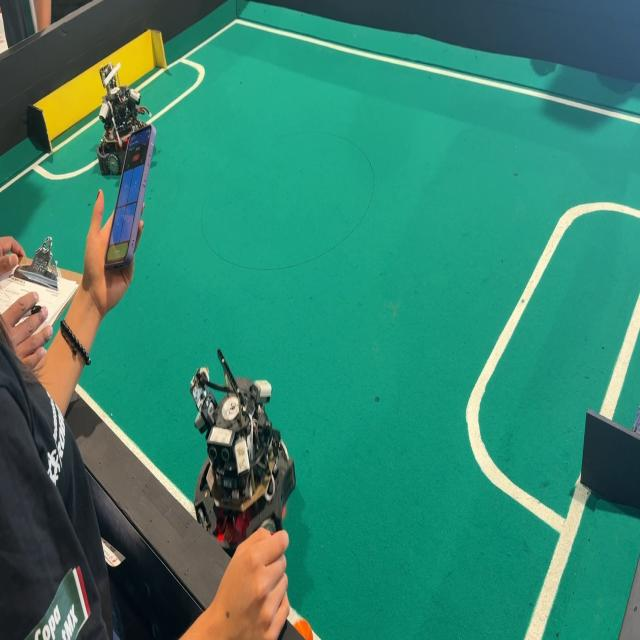Robot: (170, 346, 306, 554), (86, 54, 150, 187)
